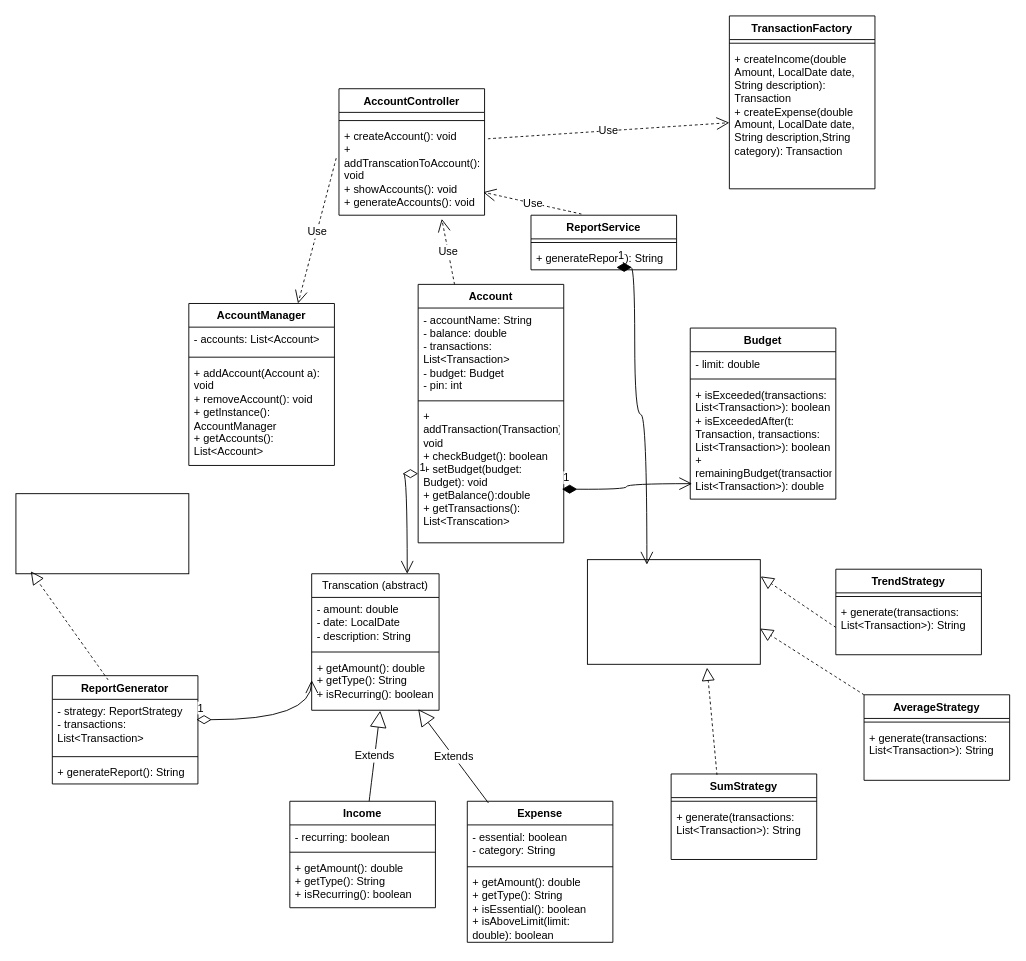
This 1026x961 diagram has some shape labels left out. The centre of each missing label's shape, as x and y in pixels:
"<<Interface>> Reportable + generateReport(): String" goes at (102,533).
"<<Interface>> ReportStrategy + generate(transactions: List<Transaction>): String" goes at (673,611).
